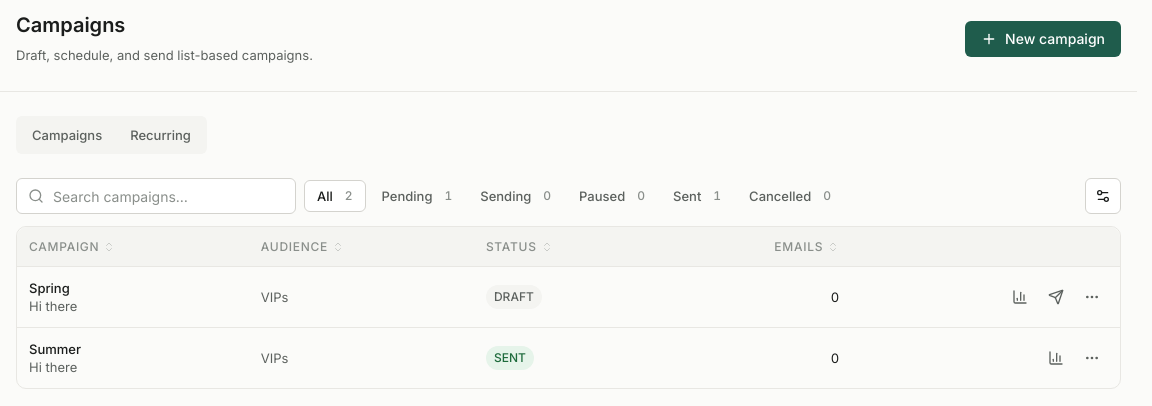
Test case: Campaigns › filters by status
Check: the text "Spring" is shown, box 29,280 -> 70,296
Click the button "Sent 1": (697, 196) 661,180 -> 733,212
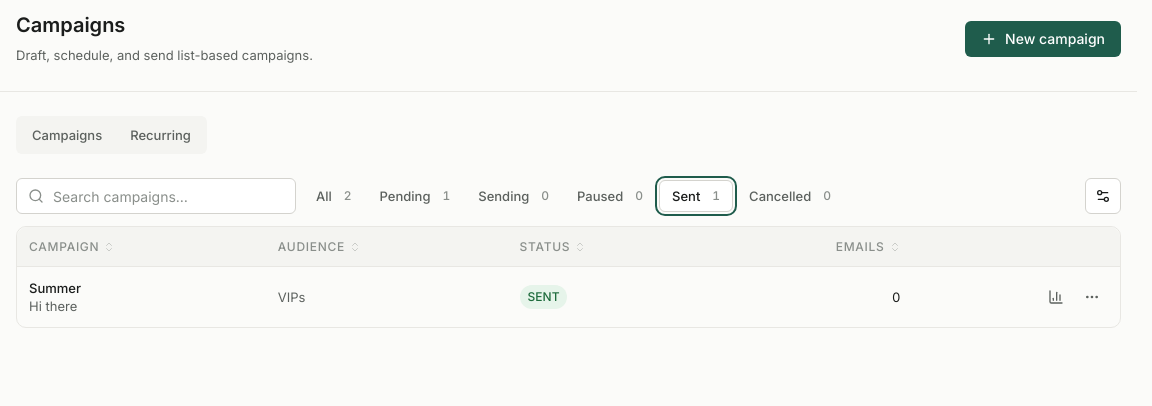
Check: the text "Summer" is shown, box 29,280 -> 81,296
Check: the text "Spring" is gone
